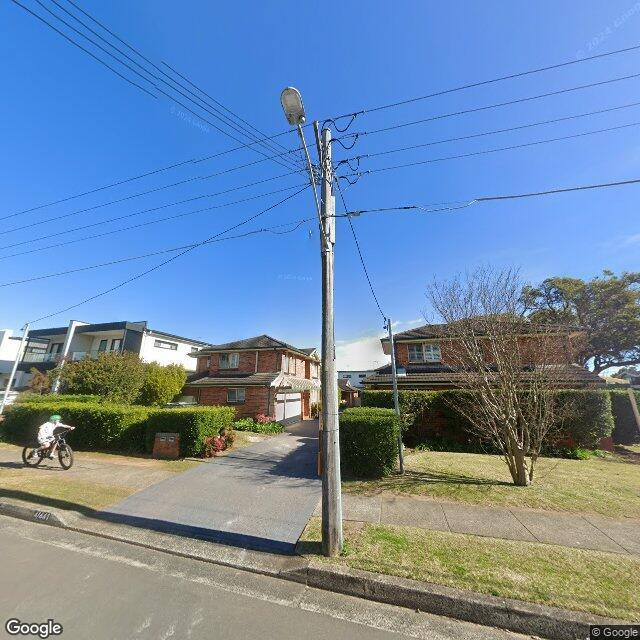crossarm: (312, 121, 324, 165)
steel-pole: (0, 322, 29, 416), (389, 318, 404, 474)
streetlight: (280, 87, 328, 247)
timber-pole: (321, 128, 345, 559)
